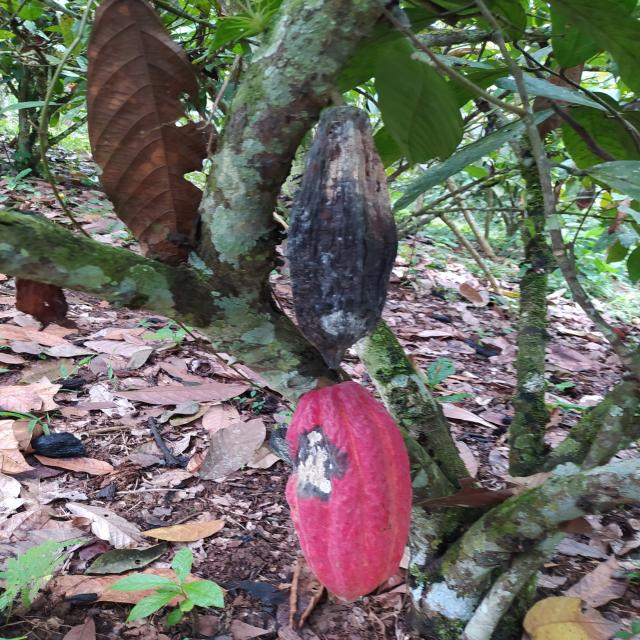Fitoftora: (286, 105, 398, 371)
Monilia: (285, 379, 411, 602)
